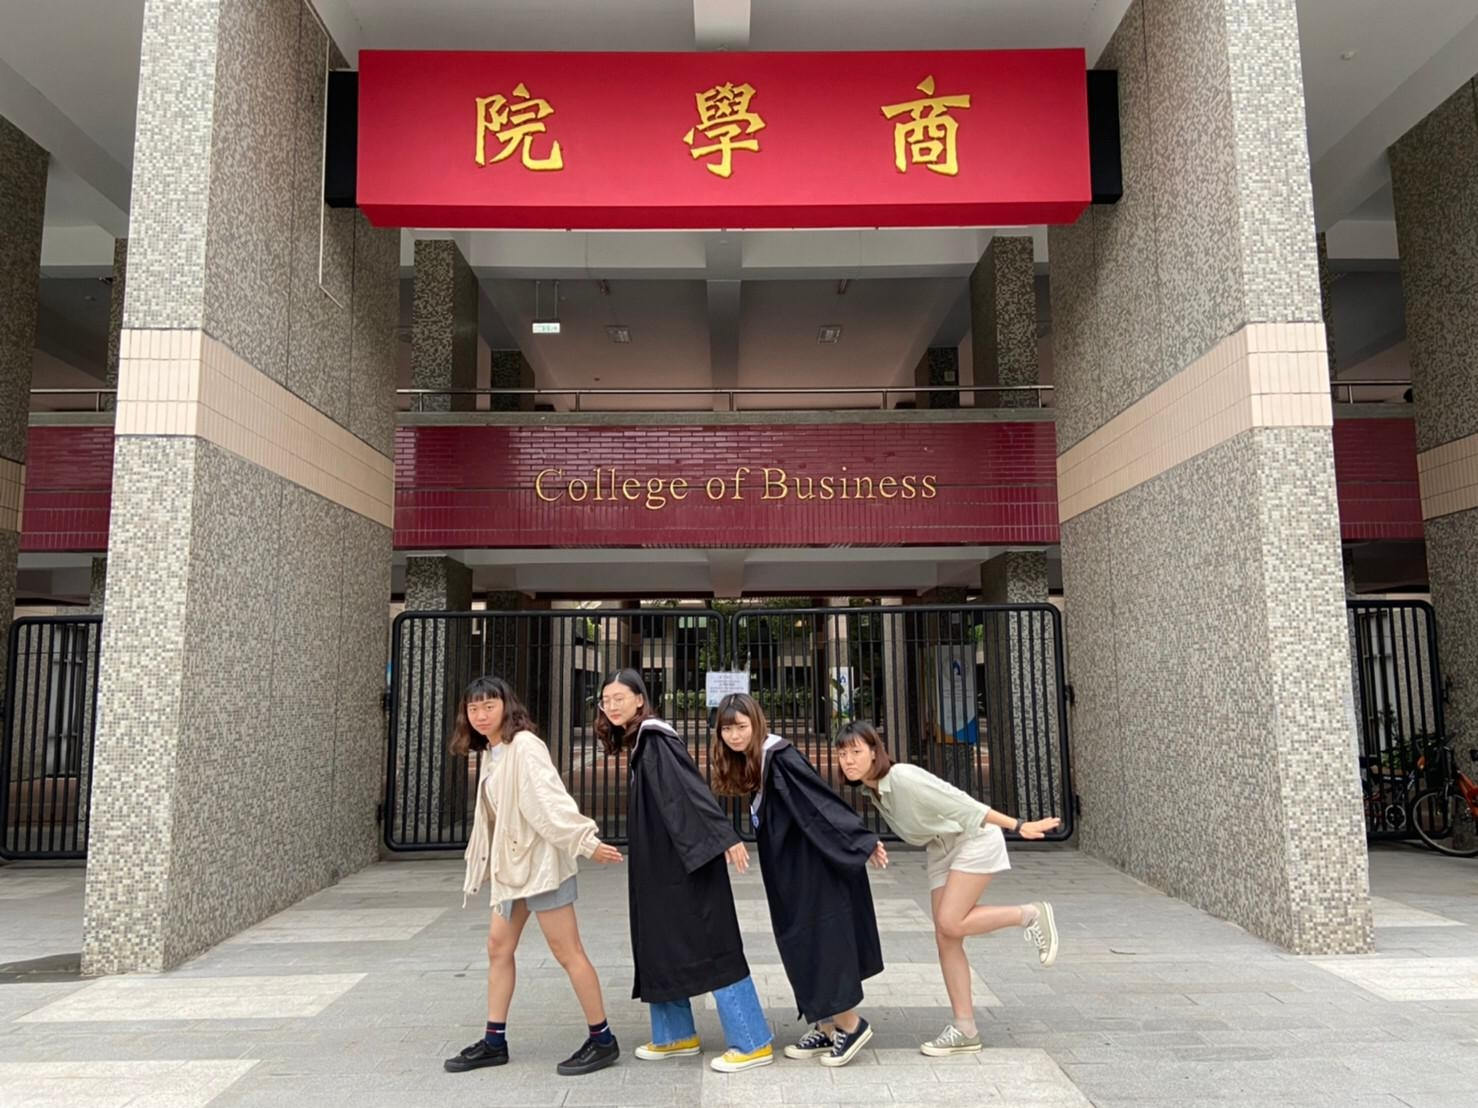people: (596, 669, 786, 1073), (844, 730, 1058, 1052), (452, 682, 621, 1063), (715, 705, 879, 1055)
